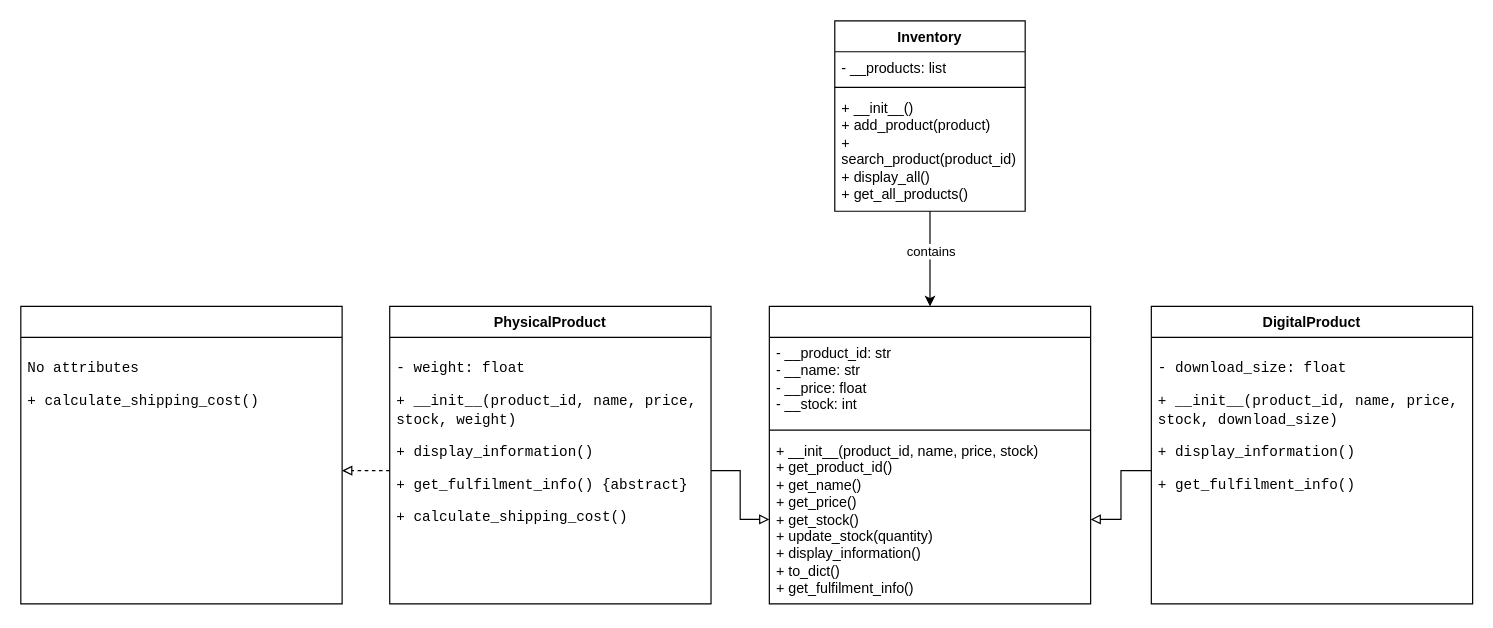
This 1493x628 diagram has some shape labels left out. Each missing label, with the box of its shape:
«abstract» Product: (768, 305, 1091, 604)
«interface» CanBeShipped: (20, 305, 342, 604)
